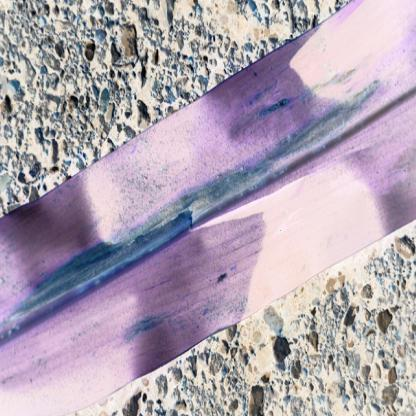Corn leaf blight: (1, 9, 409, 385)
